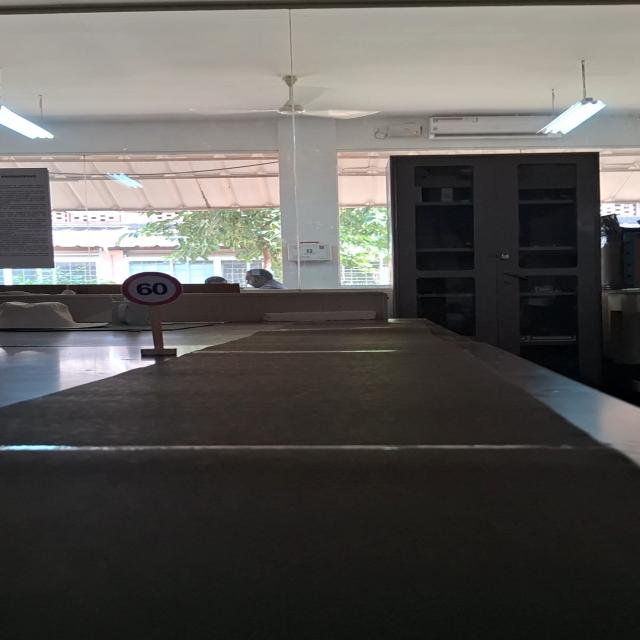Speed60: (120, 270, 183, 308)
